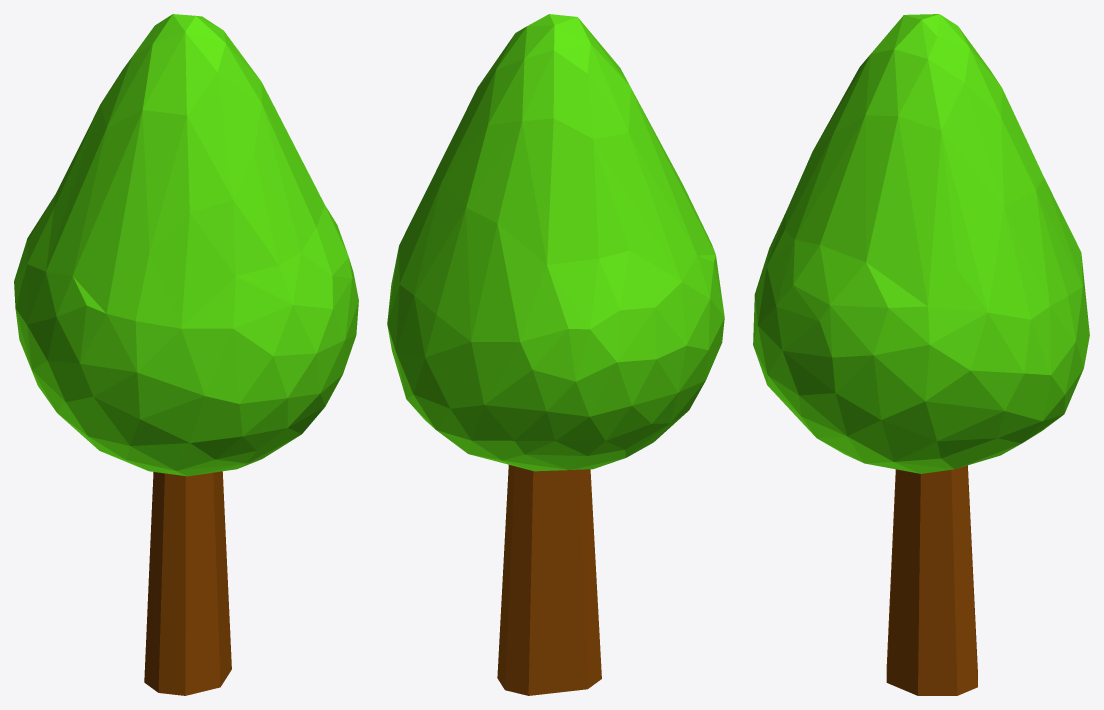
File: ThinTree_singleobject.fbx
3 renders of one model, left to right at view 1: azimuth 30°, elevation 25°; view 2: azimuth 150°, elevation 25°; view 3: azimuth 270°, elevation 25°, orthographic.
Parts seen in each view (by area): view 1: Icosphere; view 2: Icosphere; view 3: Icosphere.
Part boxes in pixels (bbox=[...]): Icosphere: bbox=[14, 14, 358, 695]; Icosphere: bbox=[387, 14, 724, 695]; Icosphere: bbox=[753, 14, 1089, 695].
Size of the model in its own units: 200 by 432 by 200.
